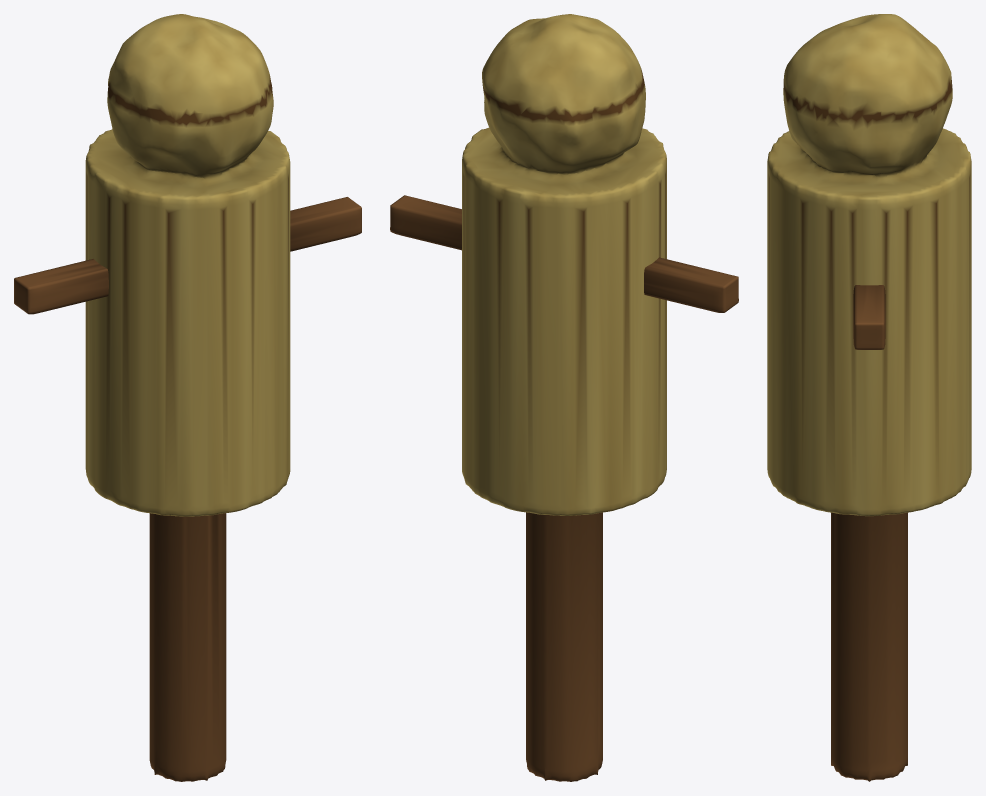
The model's file is sparring_post.glb.
The picture shows the model from 3 angles, left to right: view 1: azimuth 30°, elevation 25°; view 2: azimuth 150°, elevation 25°; view 3: azimuth 270°, elevation 25°; orthographic projection.
Parts seen in each view (by area): view 1: straw, post; view 2: straw, post; view 3: straw, post.
Boxes of the visible parts, bbox=[...] form: straw: bbox=[85, 14, 290, 516]; post: bbox=[14, 197, 361, 781]; straw: bbox=[462, 14, 666, 515]; post: bbox=[390, 195, 738, 781]; straw: bbox=[767, 14, 971, 516]; post: bbox=[831, 285, 907, 781].
Size of the model in its own units: 1.2 by 2.56 by 0.6375.
